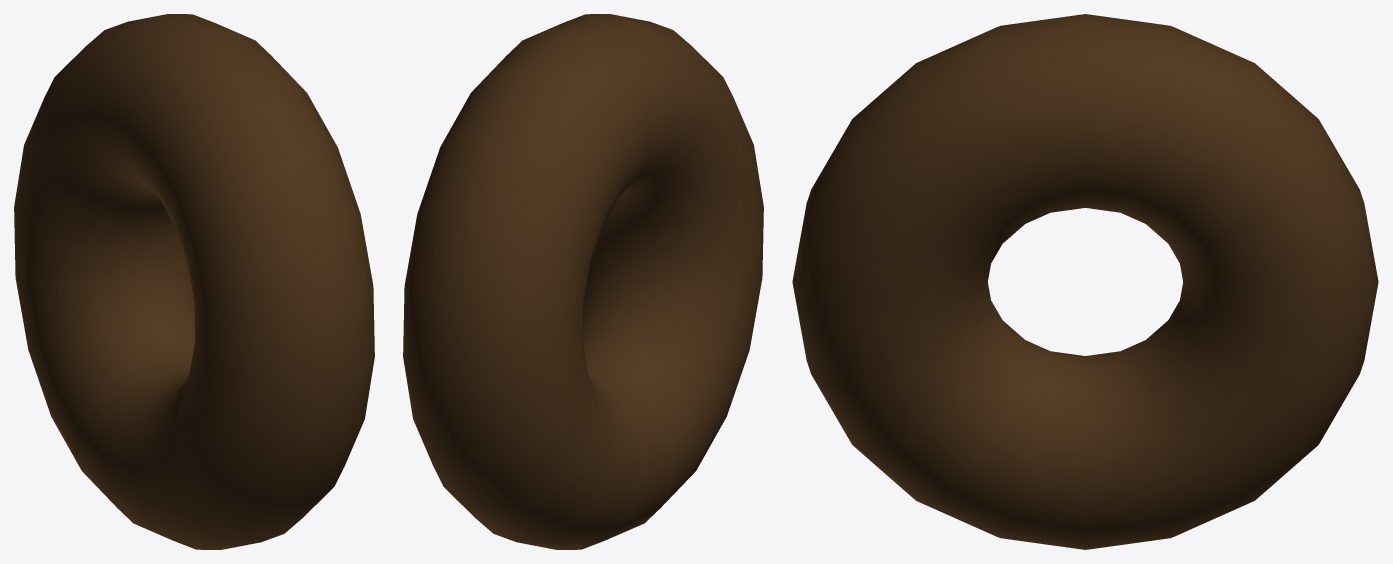
The picture shows the model from 3 angles, left to right: view 1: azimuth 30°, elevation 25°; view 2: azimuth 150°, elevation 25°; view 3: azimuth 270°, elevation 25°; orthographic projection. The views are drawn at different scales.
Visible parts, largest first — view 1: pTorus1; view 2: pTorus1; view 3: pTorus1.
Boxes of the visible parts, box(x1,y1,x2,y2) form: pTorus1: box(14, 14, 374, 549); pTorus1: box(403, 14, 763, 549); pTorus1: box(792, 14, 1378, 549).
Size of the model in its own units: 1.13 by 2.99 by 3.
